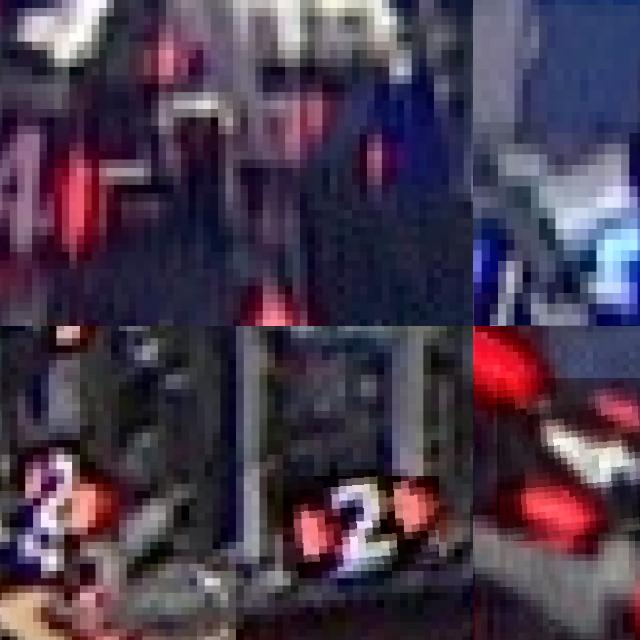B1: (473, 207, 539, 326)
R2: (283, 476, 439, 571), (10, 440, 103, 542)
R4: (496, 377, 640, 541)
